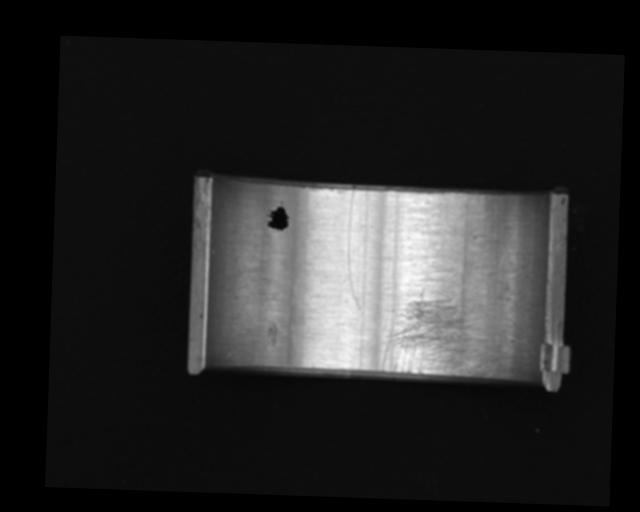blot: (266, 199, 290, 232)
bruise: (265, 322, 280, 347)
nick: (345, 187, 366, 311)
scratch: (379, 287, 494, 381)
